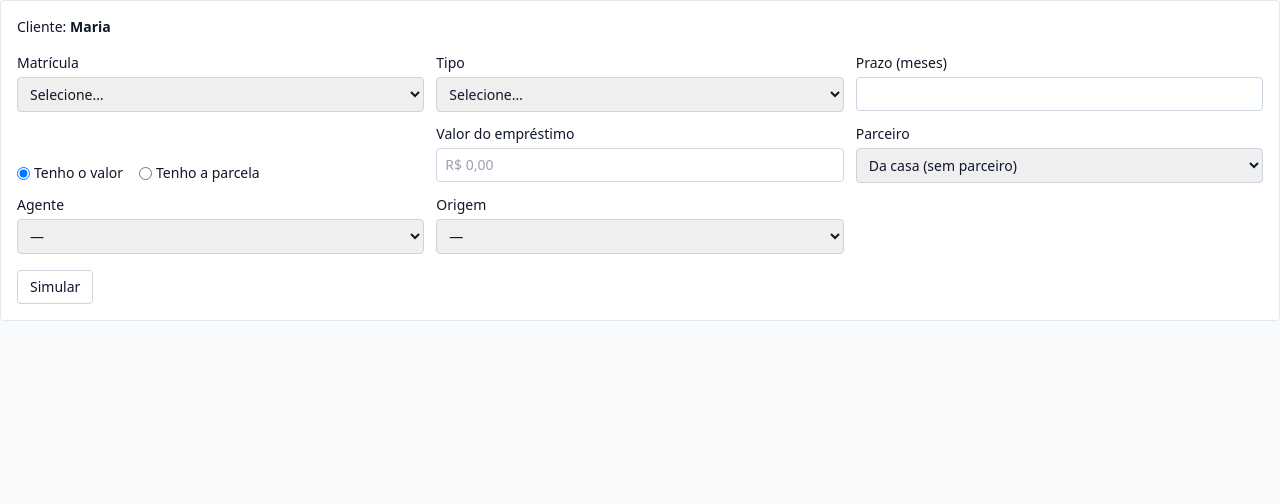
Test: DigitacaoForm › refinanciamento exige escolher contrato a quitar
Select "Governo do Acre · 123" in the dropdown labelled "Matrícula": {"x": 221, "y": 94} [17,77,424,112]
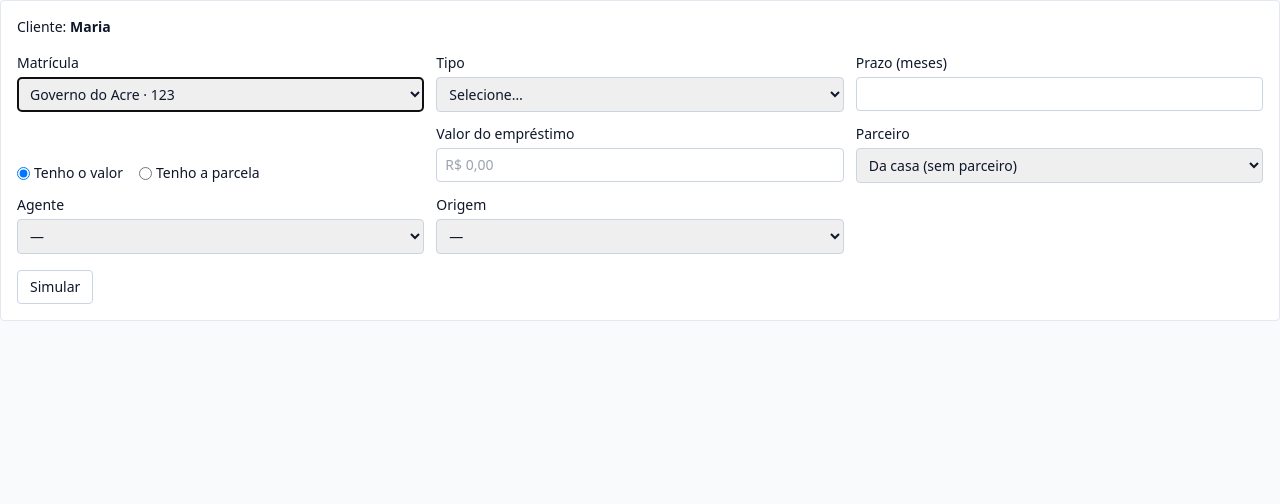
Select "Refinanciamento" in the dropdown labelled "Tipo": {"x": 640, "y": 94} [436,77,844,112]
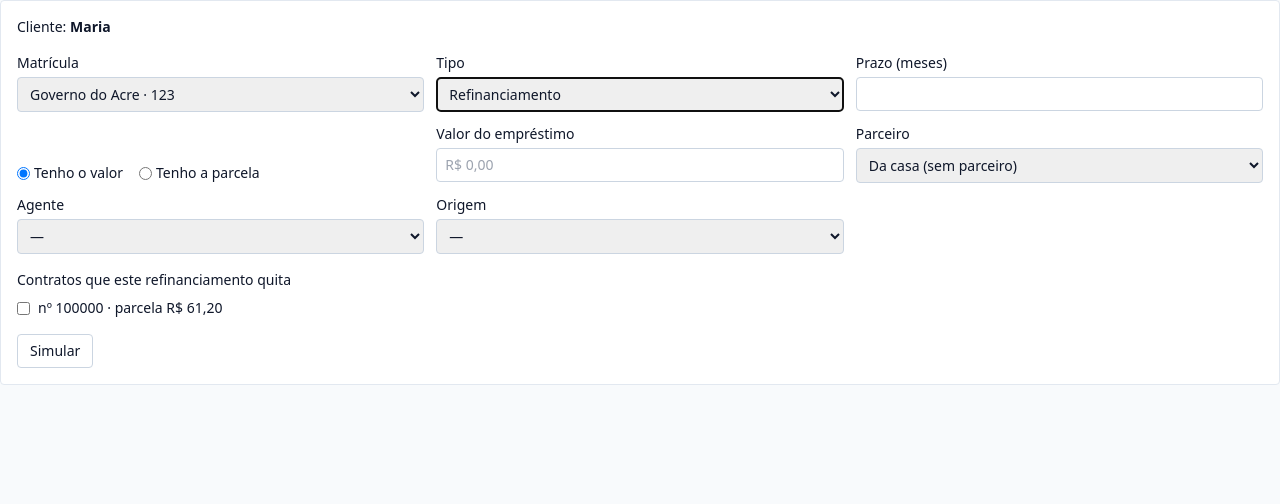
In the field labelled "Prazo (meses)": {"x": 1059, "y": 94} [856,77,1263,111], type "24"
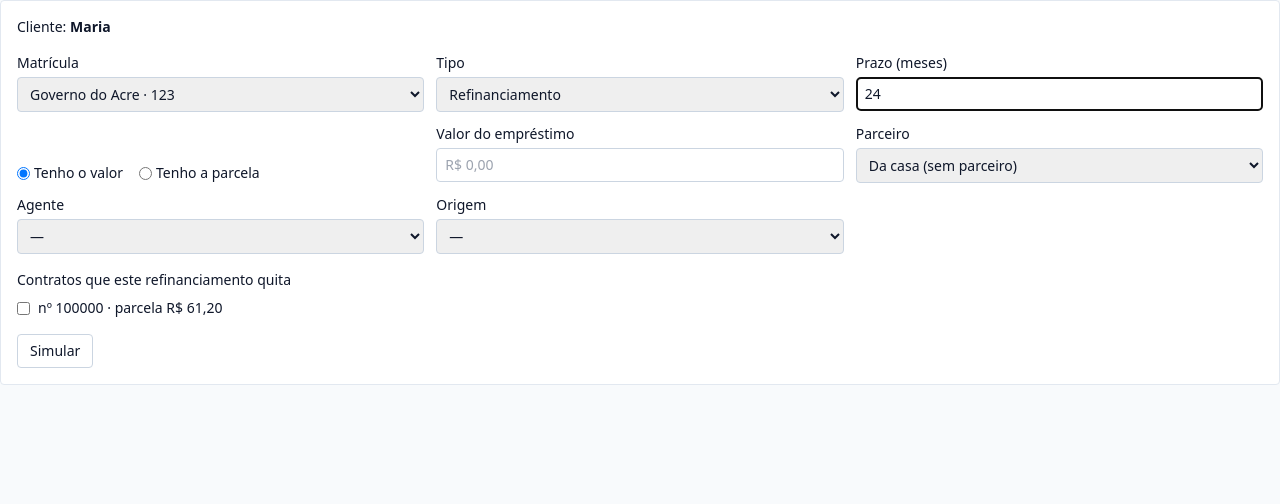
In the field labelled "Valor do empréstimo": {"x": 640, "y": 165} [436,148,844,182], type "1.000,00"
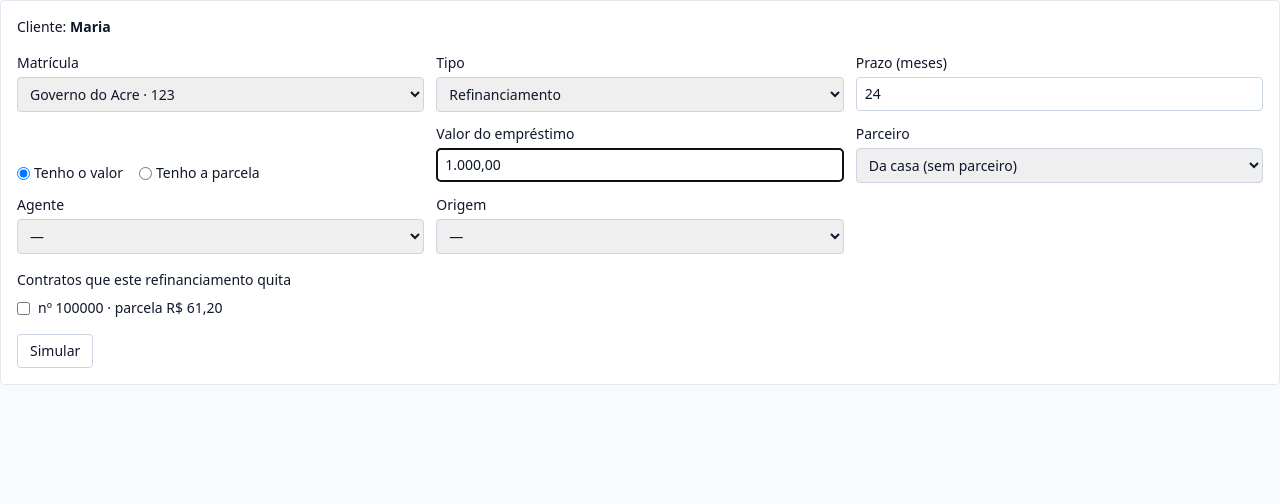
Click the button "Simular": {"x": 55, "y": 351} [17,334,93,368]
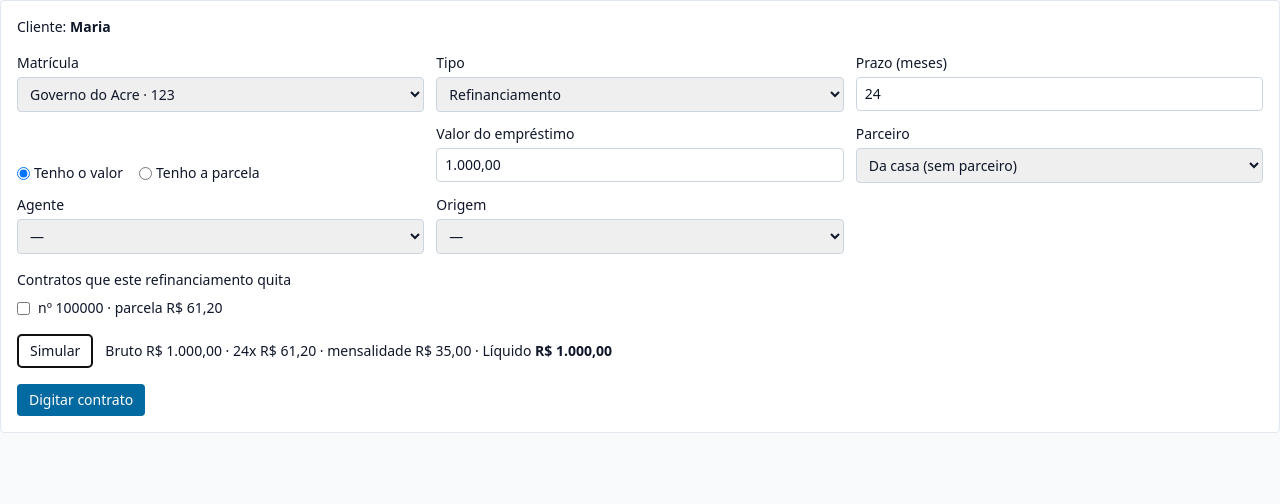
Click the button "Digitar contrato": {"x": 81, "y": 400} [17,384,145,416]
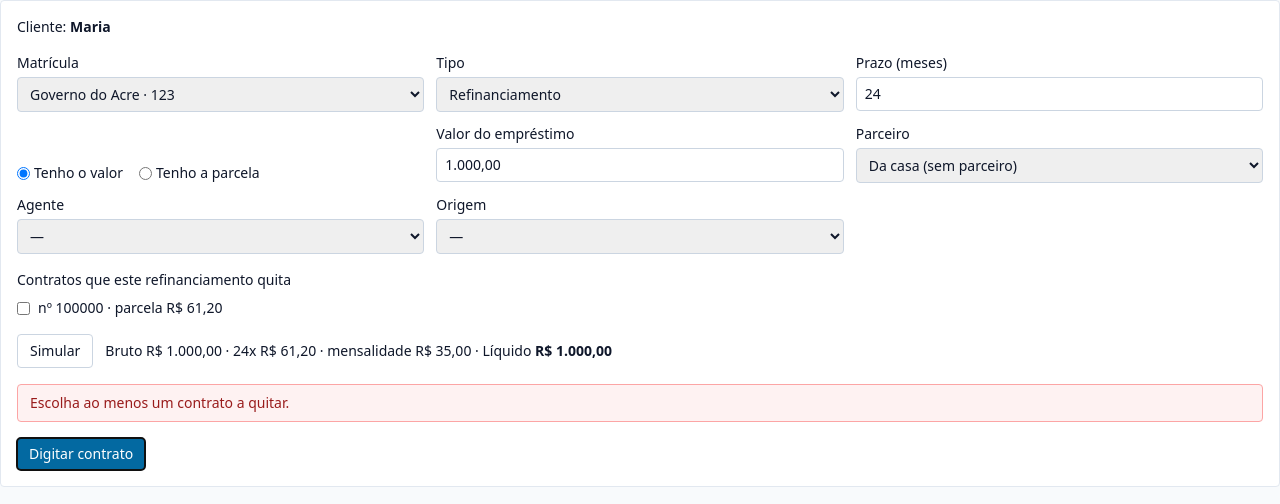
expect the message reads "Escolha ao menos um contrato a quitar.": met, box [30,393,289,412]
